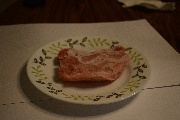beef: (57, 44, 130, 81)
